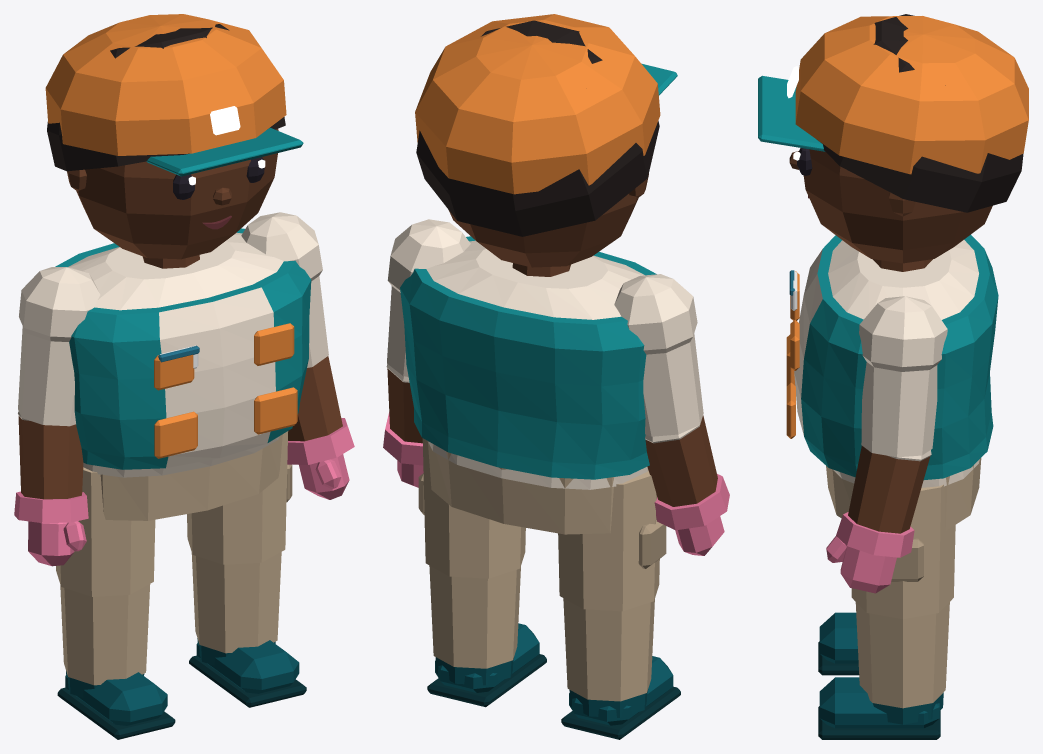
Rendered from auf_cor.glb.
3 views of the same model, side by side, from view 1: azimuth 30°, elevation 25°; view 2: azimuth 150°, elevation 25°; view 3: azimuth 270°, elevation 25° (orthographic).
Parts seen in each view (by area): view 1: weste, kopfbedeckung, arm_r, bein_r, bein_l, kopf, torso, arm_l, becken, taschen, schuh_l, schuh_r (+4 smaller); view 2: weste, kopfbedeckung, bein_r, arm_r, bein_l, haare, torso, becken, arm_l, kopf, schuh_l, schuh_r (+1 smaller); view 3: kopfbedeckung, weste, arm_l, bein_l, kopf, torso, haare, schuh_l, schuh_r, becken, hand_l, taschen (+2 smaller).
Part boxes in pixels (x1,y1,x2,y2): weste: (55, 228, 311, 469); kopfbedeckung: (45, 14, 303, 176); arm_r: (14, 267, 100, 523); bein_r: (56, 467, 155, 685); bein_l: (187, 431, 292, 653); kopf: (67, 129, 278, 259); torso: (68, 232, 283, 477); arm_l: (241, 212, 354, 464); becken: (100, 434, 282, 520); taschen: (154, 323, 297, 458); schuh_l: (189, 638, 306, 707); schuh_r: (57, 671, 175, 739); weste: (400, 236, 656, 479); kopfbedeckung: (415, 14, 677, 194); bein_r: (558, 470, 666, 701); arm_r: (614, 274, 729, 530); bein_l: (418, 438, 525, 668); haare: (416, 20, 659, 236); torso: (426, 240, 648, 489); becken: (428, 441, 614, 534); arm_l: (383, 219, 470, 465); kopf: (448, 173, 648, 267); schuh_l: (427, 623, 546, 707); schuh_r: (561, 656, 680, 739); kopfbedeckung: (758, 16, 1028, 174); weste: (794, 234, 998, 479); arm_l: (836, 296, 947, 557); bein_l: (851, 484, 955, 708); kopf: (803, 149, 992, 263); torso: (828, 240, 979, 487); haare: (820, 14, 1023, 212); schuh_l: (818, 677, 943, 739); schuh_r: (818, 612, 859, 675); becken: (826, 458, 981, 530); hand_l: (826, 536, 896, 593); taschen: (786, 271, 799, 438).
Size of the model in its own units: 0.0124 by 0.0234 by 0.00866.
